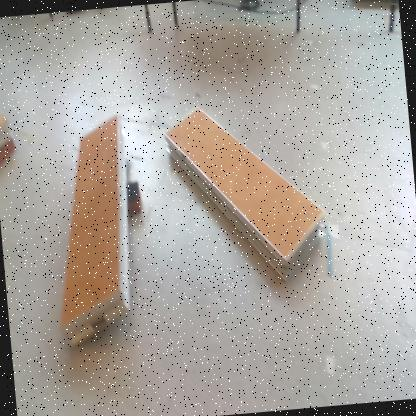Stairs: (165, 105, 327, 285), (60, 115, 129, 347), (1, 117, 13, 147)
